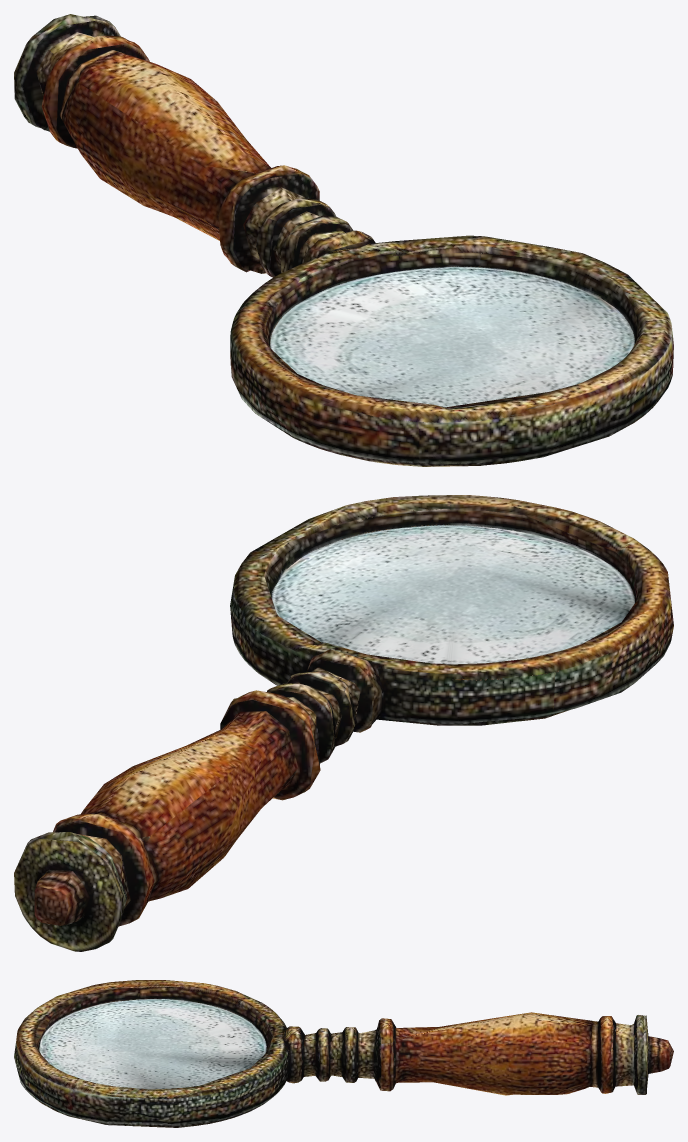
Rendered from magnifier.glb.
3 renders of one model, top to bottom at view 1: azimuth 30°, elevation 25°; view 2: azimuth 150°, elevation 25°; view 3: azimuth 270°, elevation 25°, orthographic. The views are drawn at different scales.
Parts seen in each view (by area): view 1: mesh; view 2: mesh; view 3: mesh.
Part boxes in pixels (x1,y1,x2,y2): mesh: [14, 14, 673, 466]; mesh: [14, 495, 673, 951]; mesh: [14, 980, 673, 1127].
Size of the model in its own units: 0.8618 by 0.2571 by 2.
1 material, 1 textured.
